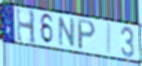3: (120, 25, 135, 58)
6: (39, 13, 54, 46)
H: (15, 6, 37, 46)
I: (106, 22, 112, 56)
N: (58, 15, 76, 49)
P: (77, 18, 97, 51)
